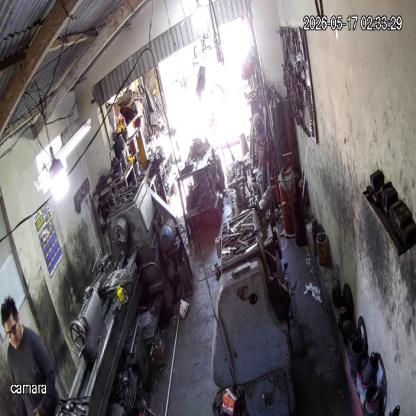lentes: (2, 321, 20, 339)
